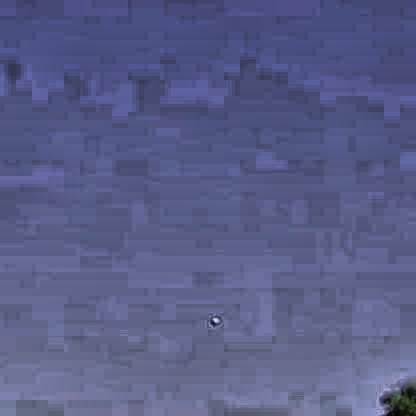golfball: (207, 314, 217, 323)
